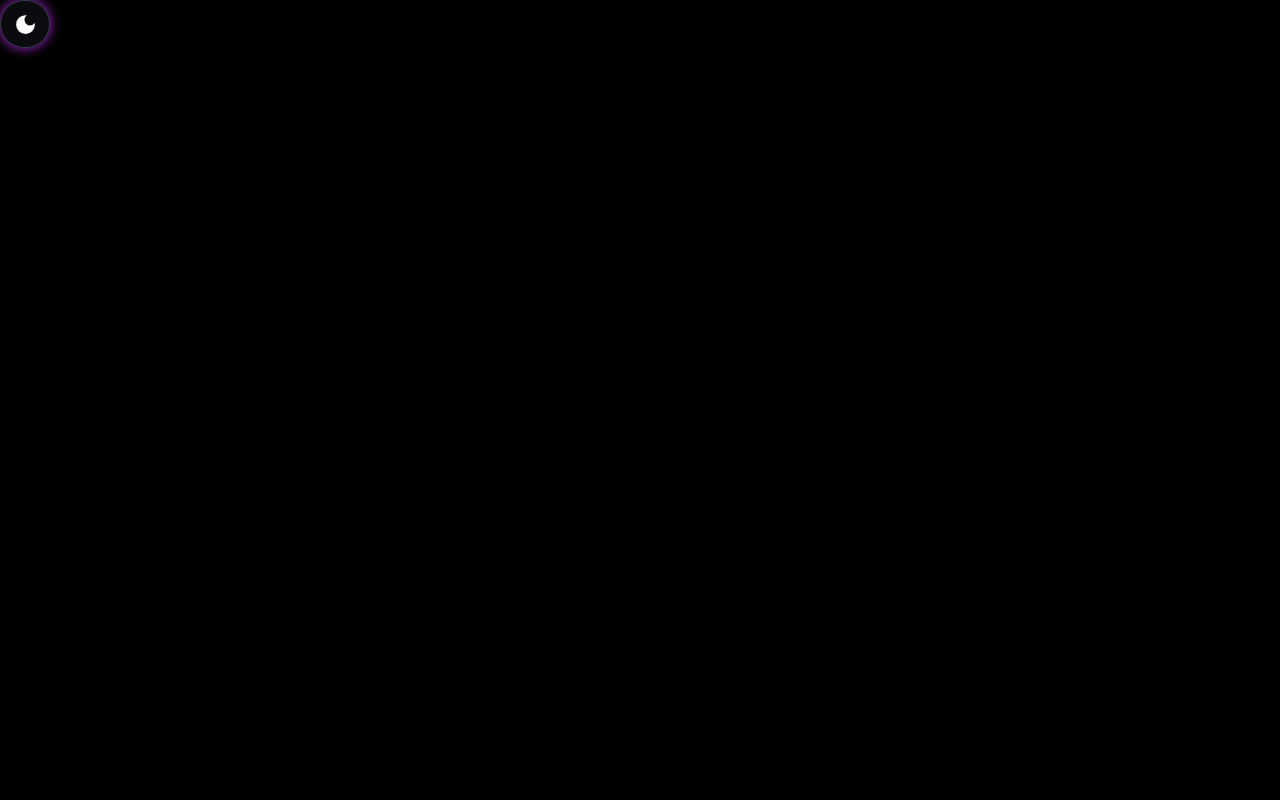
Test: ThemeSwitcher › switches the theme, saves it and collapses
This screenshot has width=1280, height=800.
Step 1. Click the button named "Тема оформления" → (25, 24), box [1,0,49,48]
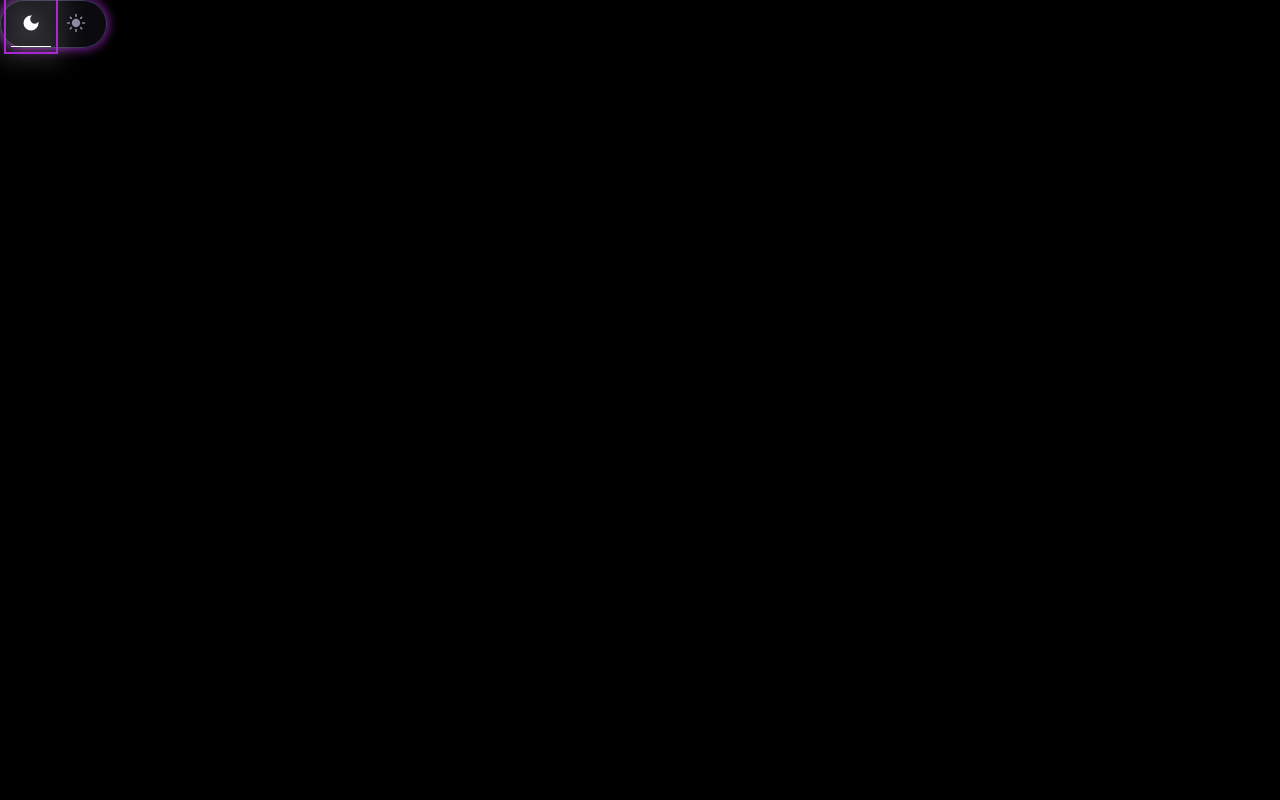
Step 2. Click the button named "Светлая" → (76, 24), box [56,2,96,46]
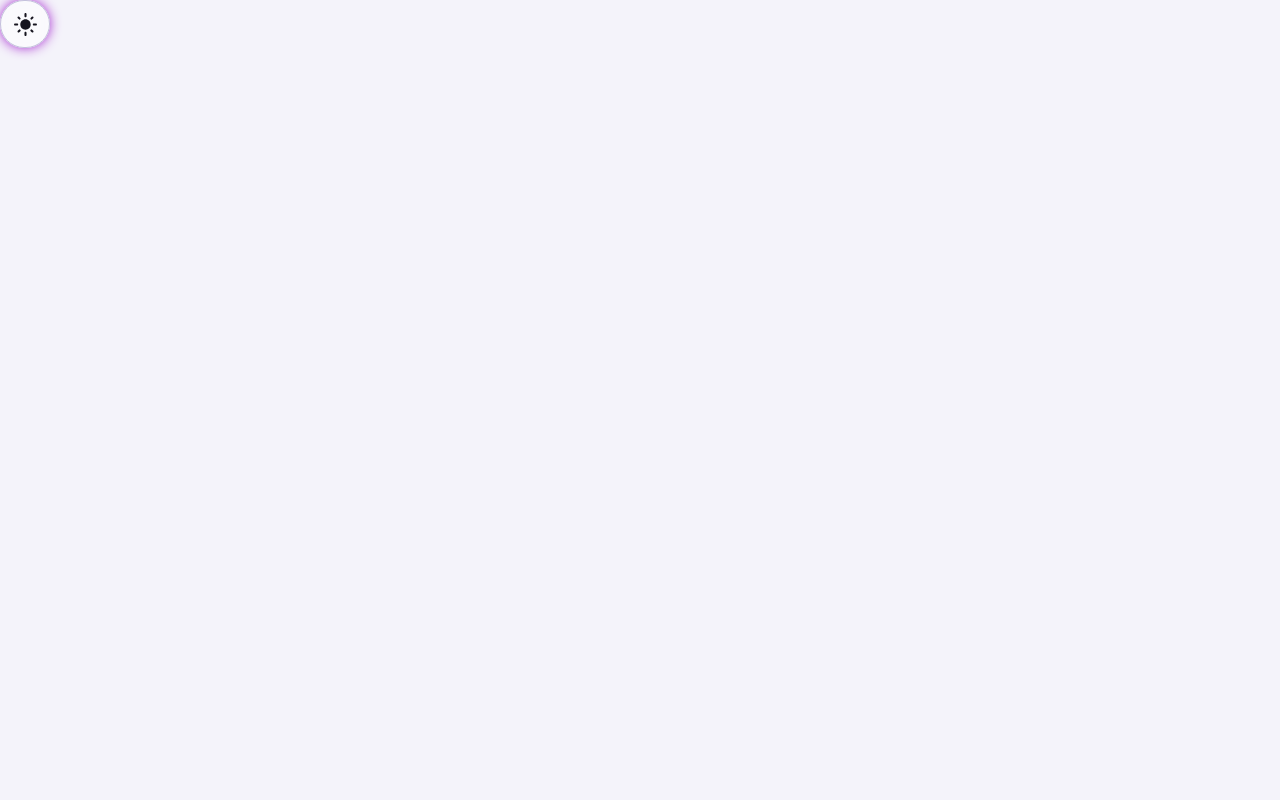
Result: the button named "Тема оформления" is collapsed at [1,0,49,48]
